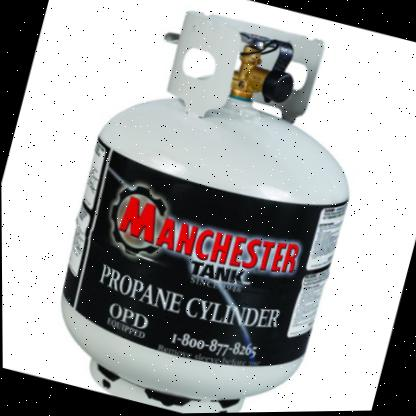gas-tank: (13, 0, 412, 415)
